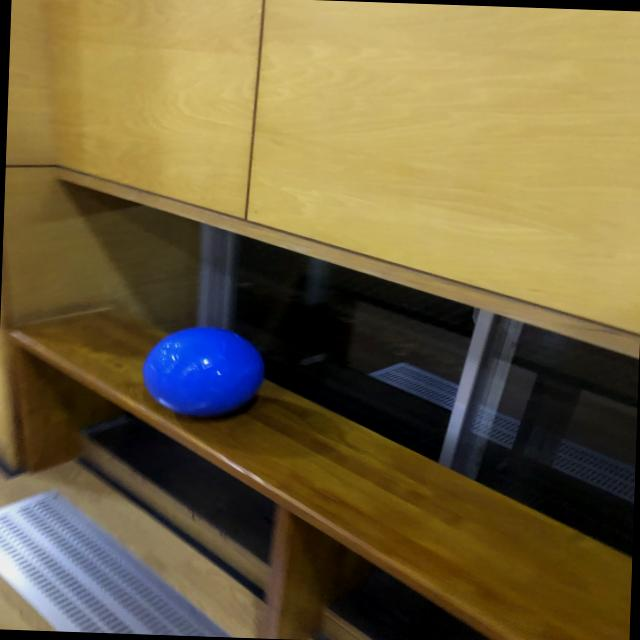blue_ball: (145, 326, 268, 421)
